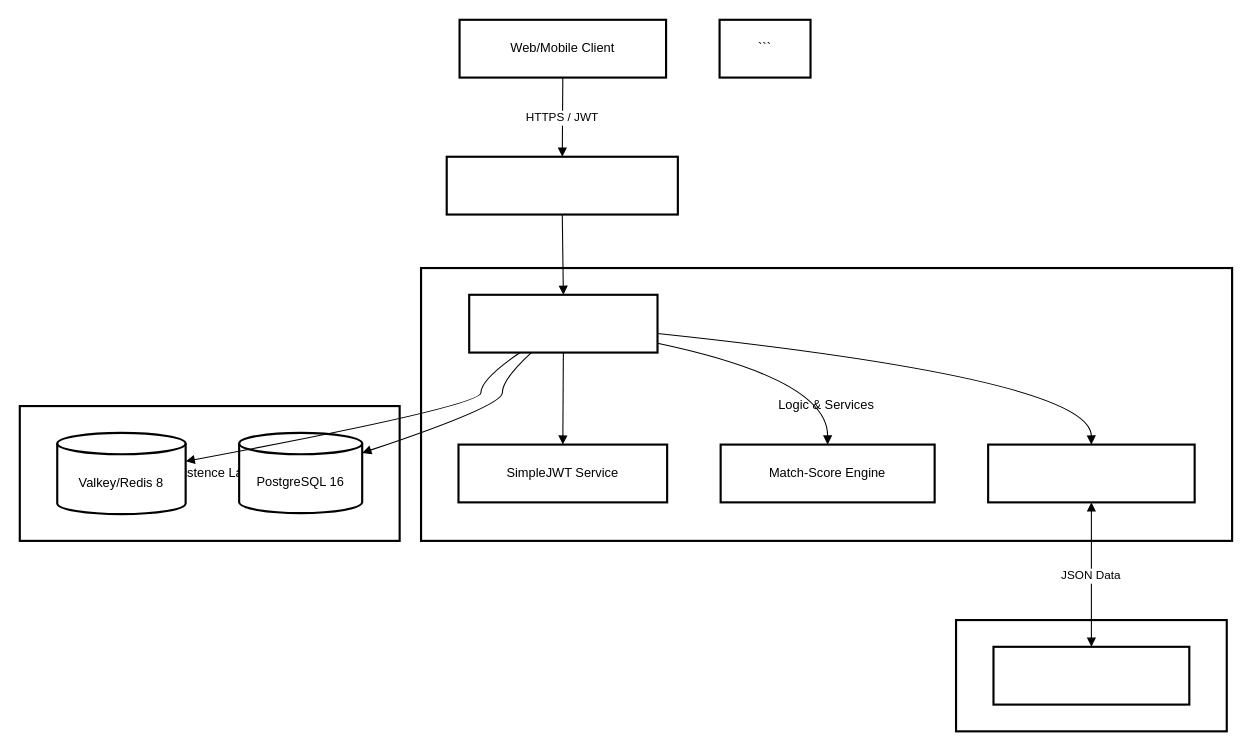
Image size: 1251x750. Some labels were removed from this diagram. Each missing label, with the centre of its shape:
"Django REST API" belongs at pixel 563 323.
"Render Load Balancer" belongs at pixel 561 185.
"The Movie DB API" belongs at pixel 1091 675.
"TMDb Sync Service" belongs at pixel 1091 473.
